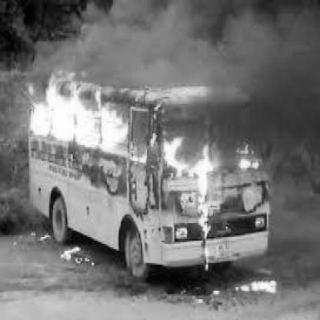Fire: (14, 62, 258, 228)
